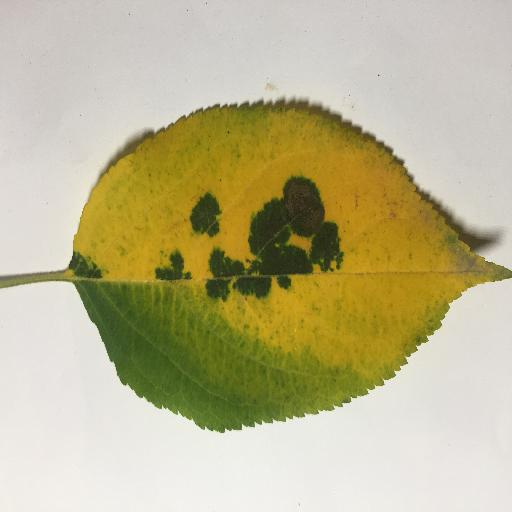Brown_Spot: (279, 179, 321, 233)
